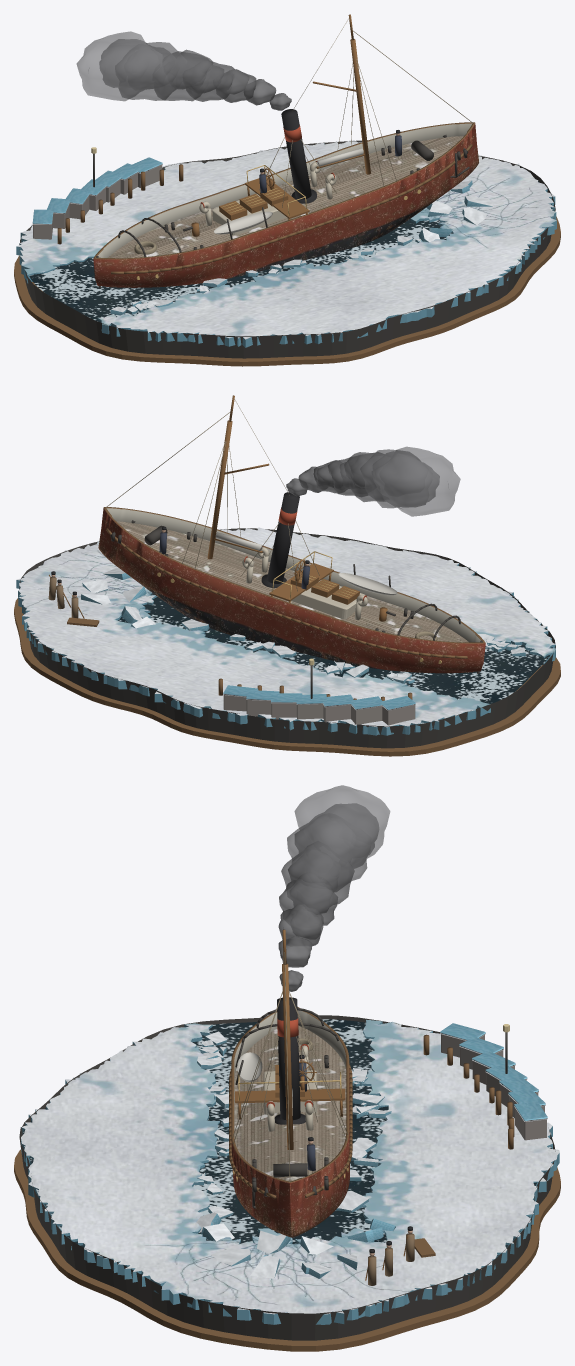
Rendered from paylot-1864.glb.
The picture shows the model from 3 angles, top to bottom: view 1: azimuth 30°, elevation 25°; view 2: azimuth 150°, elevation 25°; view 3: azimuth 270°, elevation 25°; orthographic projection. The views are drawn at different scales.
Parts seen in each view (by area): view 1: ledyanoe_pole, korpus, podstavka, voda, dym.010, dym.008, dym.006, dym.011, dym.004, dym.009, truba, dym.007 (+7 smaller); view 2: ledyanoe_pole, korpus, podstavka, voda, dym.010, dym.008, dym.011, dym.006, truba, kozhuh, dym.004, machta (+6 smaller); view 3: ledyanoe_pole, podstavka, korpus, voda, dym.010, dym.008, dym.006, dym.004, dym.011, truba, dym.007, dym.009 (+6 smaller).
Part boxes in pixels (bbox=[...]): ledyanoe_pole: bbox=[16, 140, 556, 347]; korpus: bbox=[93, 122, 478, 287]; podstavka: bbox=[14, 140, 560, 366]; voda: bbox=[23, 161, 552, 334]; dym.010: bbox=[76, 31, 161, 101]; dym.008: bbox=[115, 42, 186, 100]; dym.006: bbox=[154, 51, 210, 101]; dym.011: bbox=[99, 39, 146, 87]; dym.004: bbox=[183, 61, 235, 101]; dym.009: bbox=[132, 45, 175, 90]; truba: bbox=[281, 109, 311, 199]; dym.007: bbox=[170, 49, 213, 89]; ledyanoe_pole: bbox=[16, 527, 555, 735]; korpus: bbox=[98, 507, 485, 673]; podstavka: bbox=[14, 528, 560, 756]; voda: bbox=[27, 548, 552, 723]; dym.010: bbox=[374, 446, 460, 516]; dym.008: bbox=[360, 449, 431, 508]; dym.011: bbox=[371, 453, 439, 507]; dym.006: bbox=[344, 452, 389, 502]; truba: bbox=[267, 492, 299, 583]; kozhuh: bbox=[291, 580, 365, 619]; dym.004: bbox=[327, 457, 367, 496]; machta: bbox=[207, 420, 232, 559]; ledyanoe_pole: bbox=[20, 1019, 559, 1324]; podstavka: bbox=[14, 1015, 560, 1351]; korpus: bbox=[231, 1007, 349, 1237]; voda: bbox=[23, 1019, 551, 1304]; dym.010: bbox=[294, 785, 390, 868]; dym.008: bbox=[287, 813, 371, 891]; dym.006: bbox=[281, 841, 354, 904]; dym.004: bbox=[279, 873, 338, 925]; dym.011: bbox=[310, 803, 379, 865]; truba: bbox=[277, 997, 300, 1120]; dym.007: bbox=[288, 848, 340, 891]; dym.009: bbox=[294, 817, 352, 861].
Bounding box in the file's own units: 33.98 × 17.5 × 25.8.
Materials: 31 (5 with a texture image).
